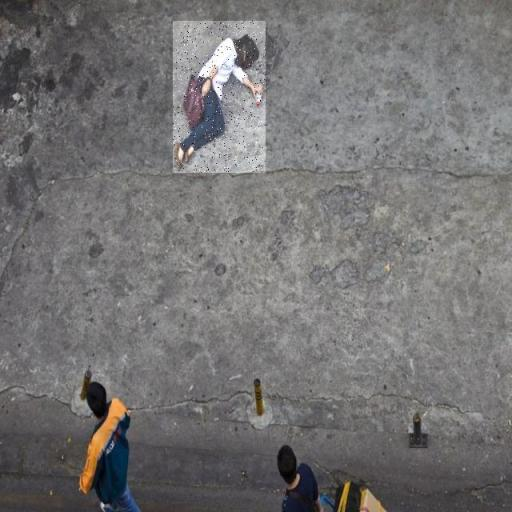Fall: (173, 21, 266, 173)
